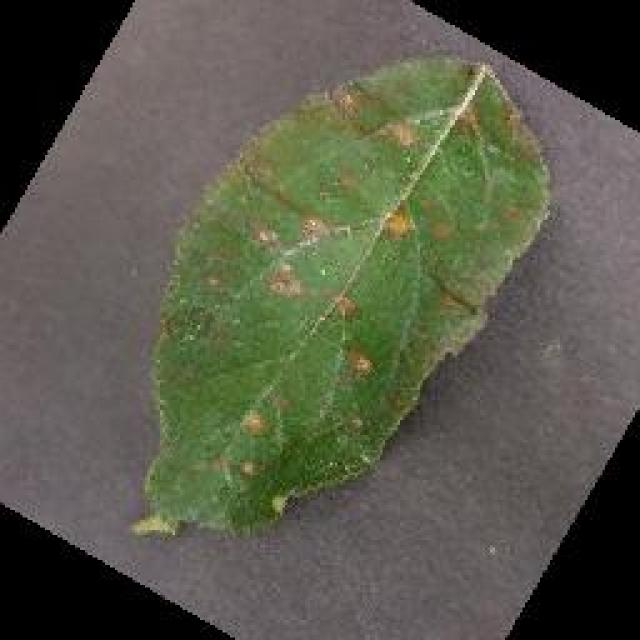apple healthy: (128, 50, 552, 540)
